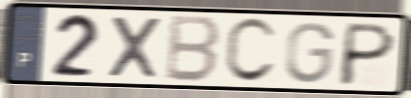2: (46, 10, 105, 81)
B: (162, 12, 224, 86)
C: (221, 15, 280, 87)
G: (283, 20, 337, 86)
P: (335, 20, 400, 89)
X: (106, 13, 164, 81)
